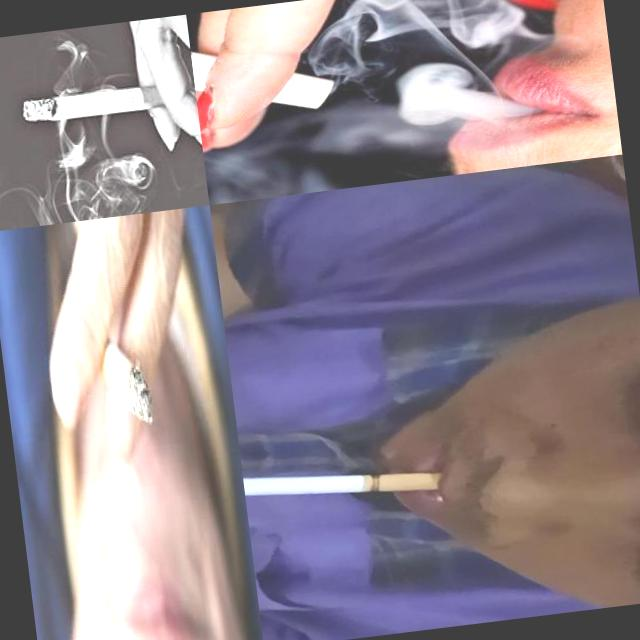cigarette: (186, 0, 339, 123), (243, 446, 447, 516), (88, 322, 156, 434), (21, 80, 192, 124)
